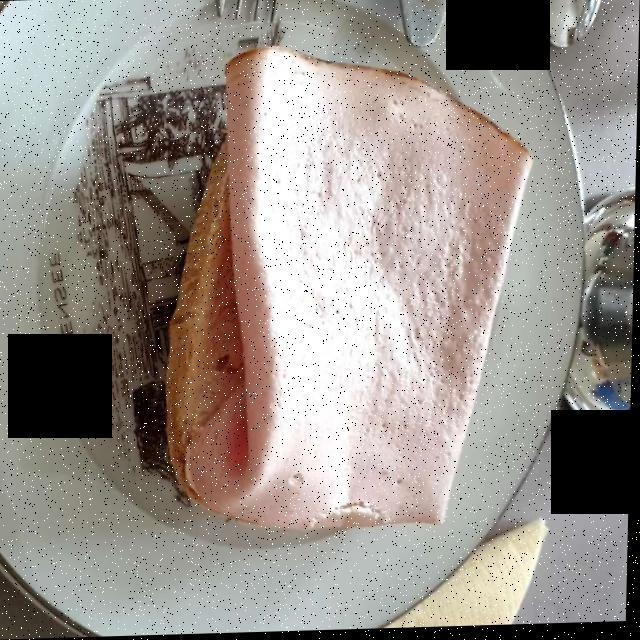bread: (175, 119, 236, 473)
ham: (166, 51, 527, 526)
